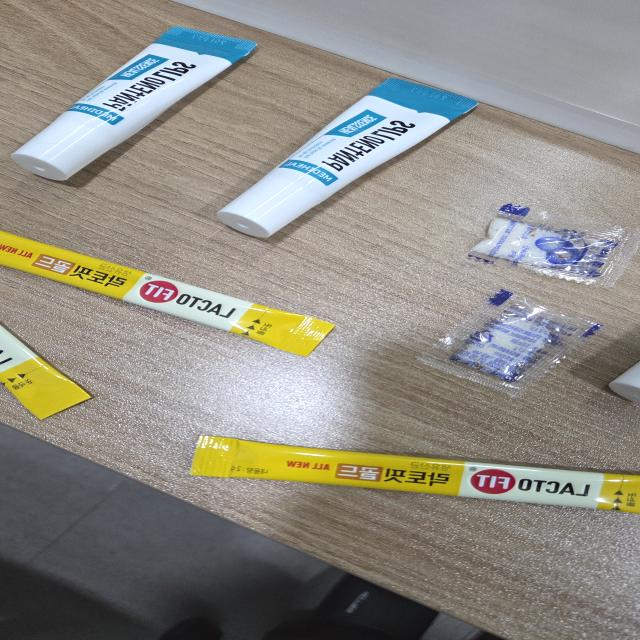lacto: (0, 231, 349, 360), (186, 432, 640, 514), (0, 317, 95, 434)
lib: (200, 78, 483, 238), (9, 26, 260, 186), (610, 353, 639, 410)
salt: (412, 288, 606, 394), (454, 201, 636, 292)
